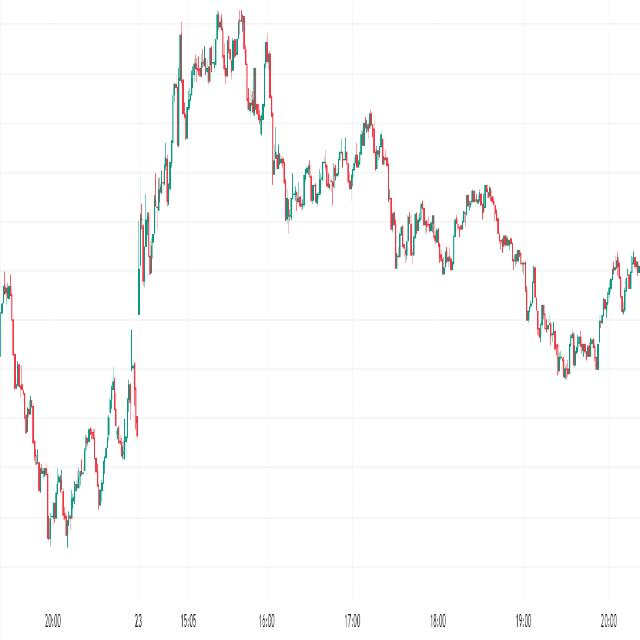Double-Bottom: (42, 456, 78, 561), (438, 231, 458, 289)
